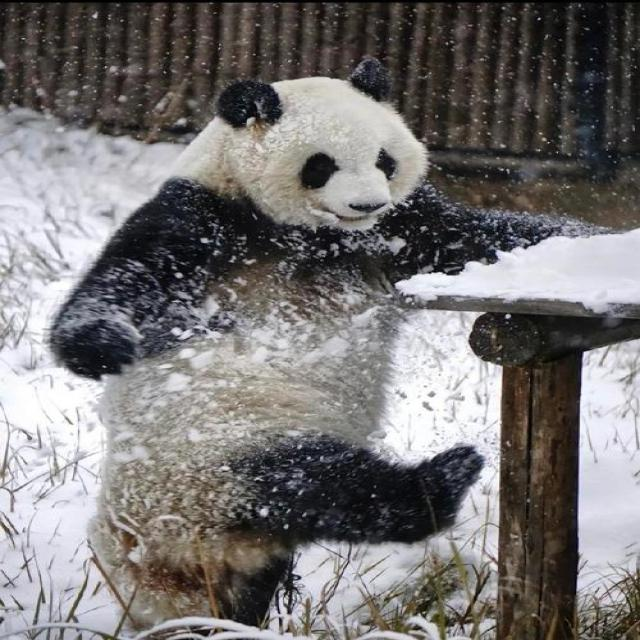panda: (44, 57, 627, 633)
